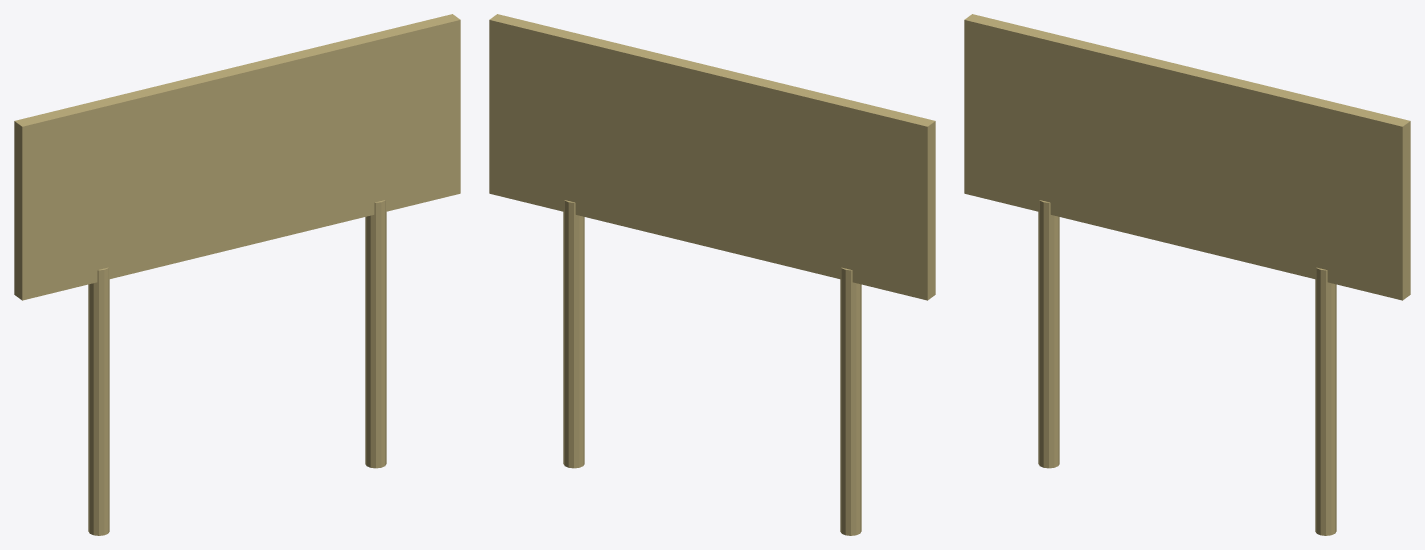
File: topper.glb
3 renders of one model, left to right at view 1: azimuth 30°, elevation 25°; view 2: azimuth 150°, elevation 25°; view 3: azimuth 330°, elevation 25°, orthographic.
Parts seen in each view (by area): view 1: world; view 2: world; view 3: world.
Boxes of the visible parts, left/top/right/bottom form: world: left=14, top=14, right=460, bottom=535; world: left=489, top=14, right=935, bottom=535; world: left=964, top=14, right=1410, bottom=535.
Size of the model in its own units: 0.95 by 0.885 by 0.04.
